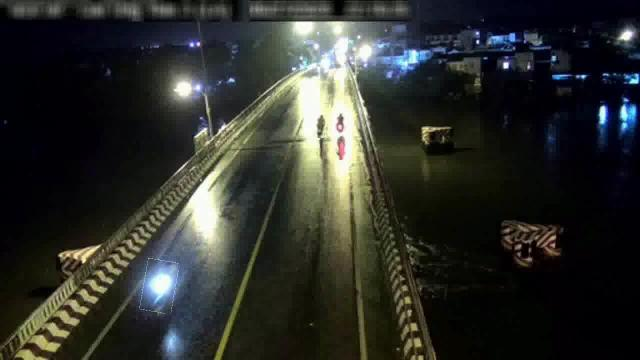Bike: (142, 260, 176, 312), (313, 112, 327, 138), (334, 113, 346, 135)
